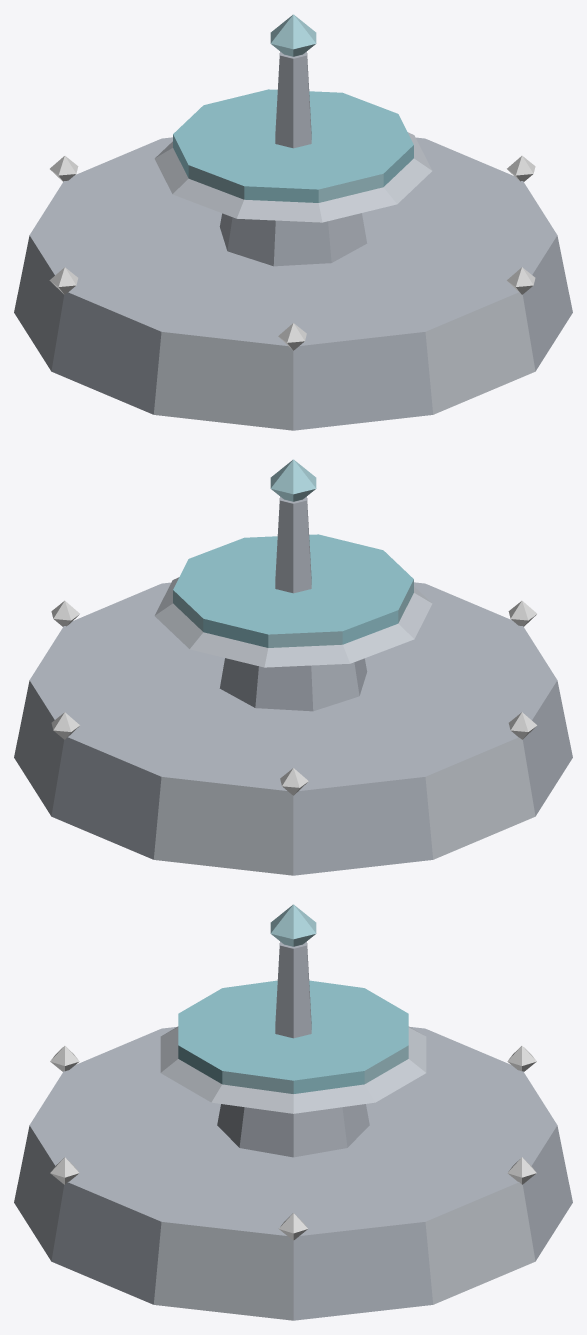
The model's file is commons_fountain.glb.
3 views of the same model, one above another, from view 1: azimuth 30°, elevation 25°; view 2: azimuth 150°, elevation 25°; view 3: azimuth 270°, elevation 25° (orthographic).
Bounding box in the file's own units: 3.6 × 2.12 × 3.6.
